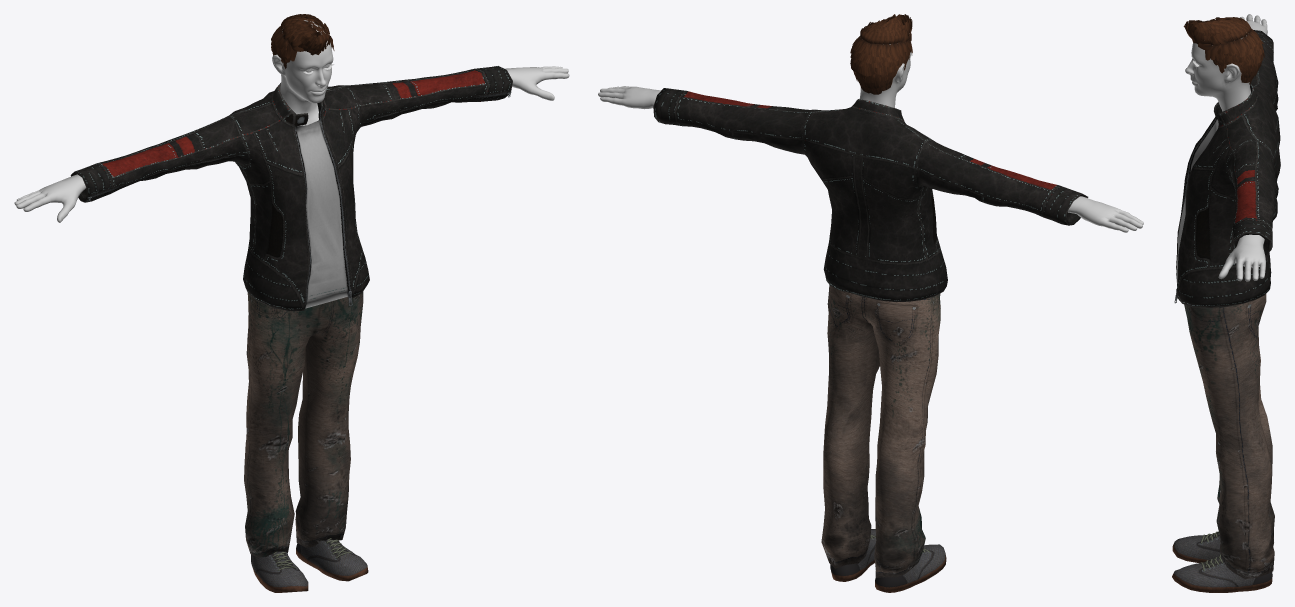
Rendered from HomemBranco.obj.
3 renders of one model, left to right at view 1: azimuth 30°, elevation 25°; view 2: azimuth 150°, elevation 25°; view 3: azimuth 270°, elevation 25°, orthographic.
Visible parts, largest first — view 1: Tops, Bottoms, Body, Shoes, Hair; view 2: Tops, Bottoms, Hair, Body, Shoes; view 3: Tops, Bottoms, Body, Shoes, Hair.
Boxes of the visible parts, box(x1,y1,x2,y2) form: Tops: box(70, 66, 512, 311); Bottoms: box(244, 291, 363, 557); Body: box(14, 20, 569, 222); Shoes: box(251, 538, 368, 592); Hair: box(271, 14, 334, 68); Tops: box(653, 88, 1088, 302); Bottoms: box(821, 285, 940, 577); Hair: box(850, 14, 912, 94); Body: box(598, 44, 1143, 232); Shoes: box(830, 529, 946, 592); Tops: box(1174, 30, 1280, 307); Bottoms: box(1184, 294, 1274, 579); Body: box(1185, 14, 1267, 281); Shoes: box(1172, 531, 1272, 592); Hair: box(1183, 17, 1264, 84).
Bounding box in the file's own units: 187 × 180 × 32.07.
